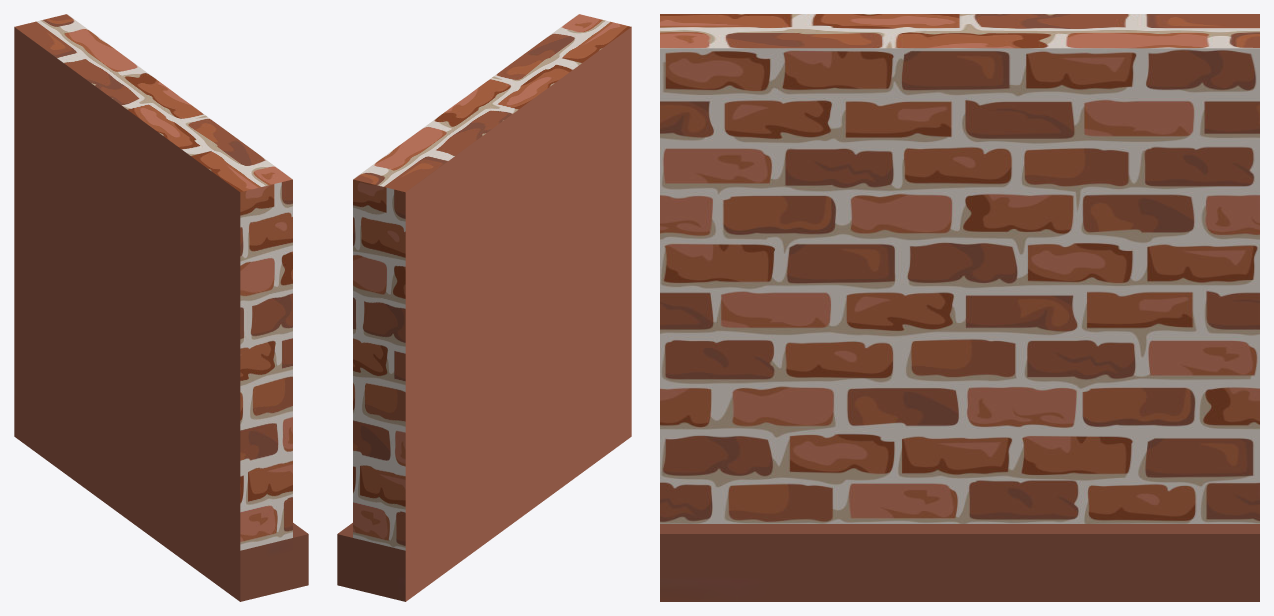
The model's file is duvar.fbx.
The picture shows the model from 3 angles, left to right: view 1: azimuth 30°, elevation 25°; view 2: azimuth 150°, elevation 25°; view 3: azimuth 270°, elevation 25°; orthographic projection. The views are drawn at different scales.
Visible parts, largest first — view 1: duvar; view 2: duvar; view 3: duvar.
Part boxes in pixels (x1,y1,x2,y2): duvar: (14,14,308,601); duvar: (337,14,631,601); duvar: (660,14,1259,601).
Size of the model in its own units: 70 by 400 by 400.
1 material, 1 textured.
